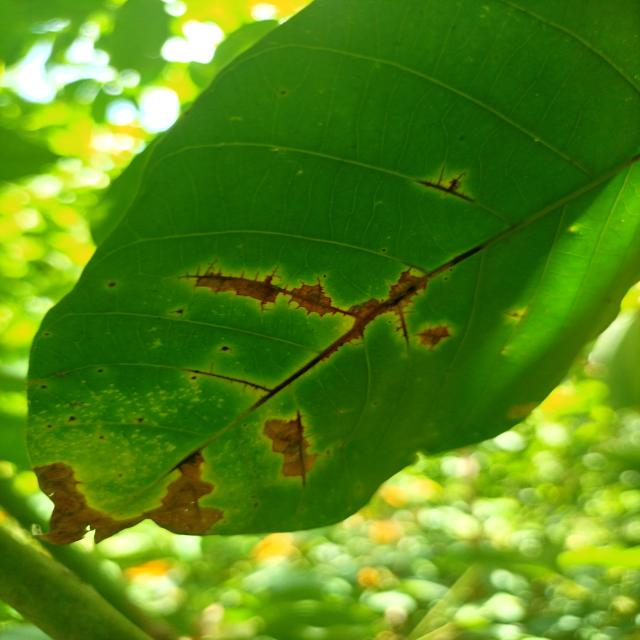Colletotrichum: (108, 282, 116, 288), (222, 346, 229, 351), (178, 309, 183, 314), (98, 369, 103, 373), (191, 376, 196, 380), (382, 249, 386, 252), (323, 275, 327, 277)
Corynespora: (248, 246, 485, 412), (178, 262, 362, 319), (184, 364, 271, 393), (414, 166, 475, 203), (287, 410, 314, 488), (160, 442, 210, 479), (413, 325, 452, 349), (394, 309, 415, 348)
Leaf-Blight: (31, 452, 224, 545), (264, 418, 316, 476)
